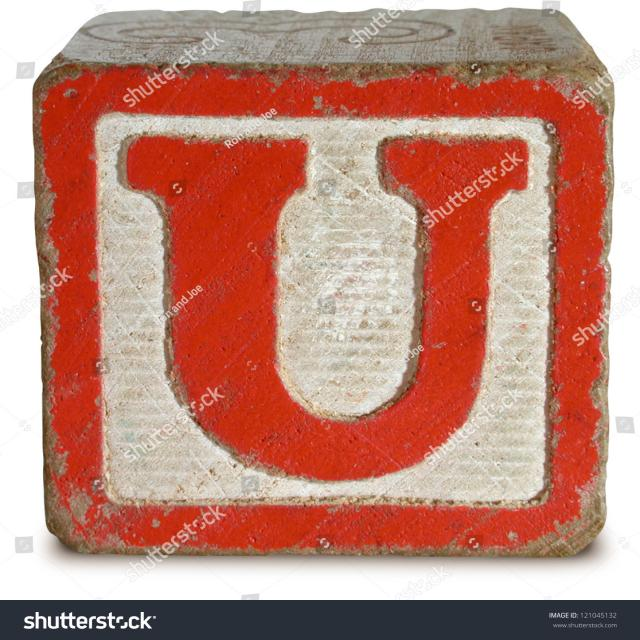U: (108, 121, 538, 498)
